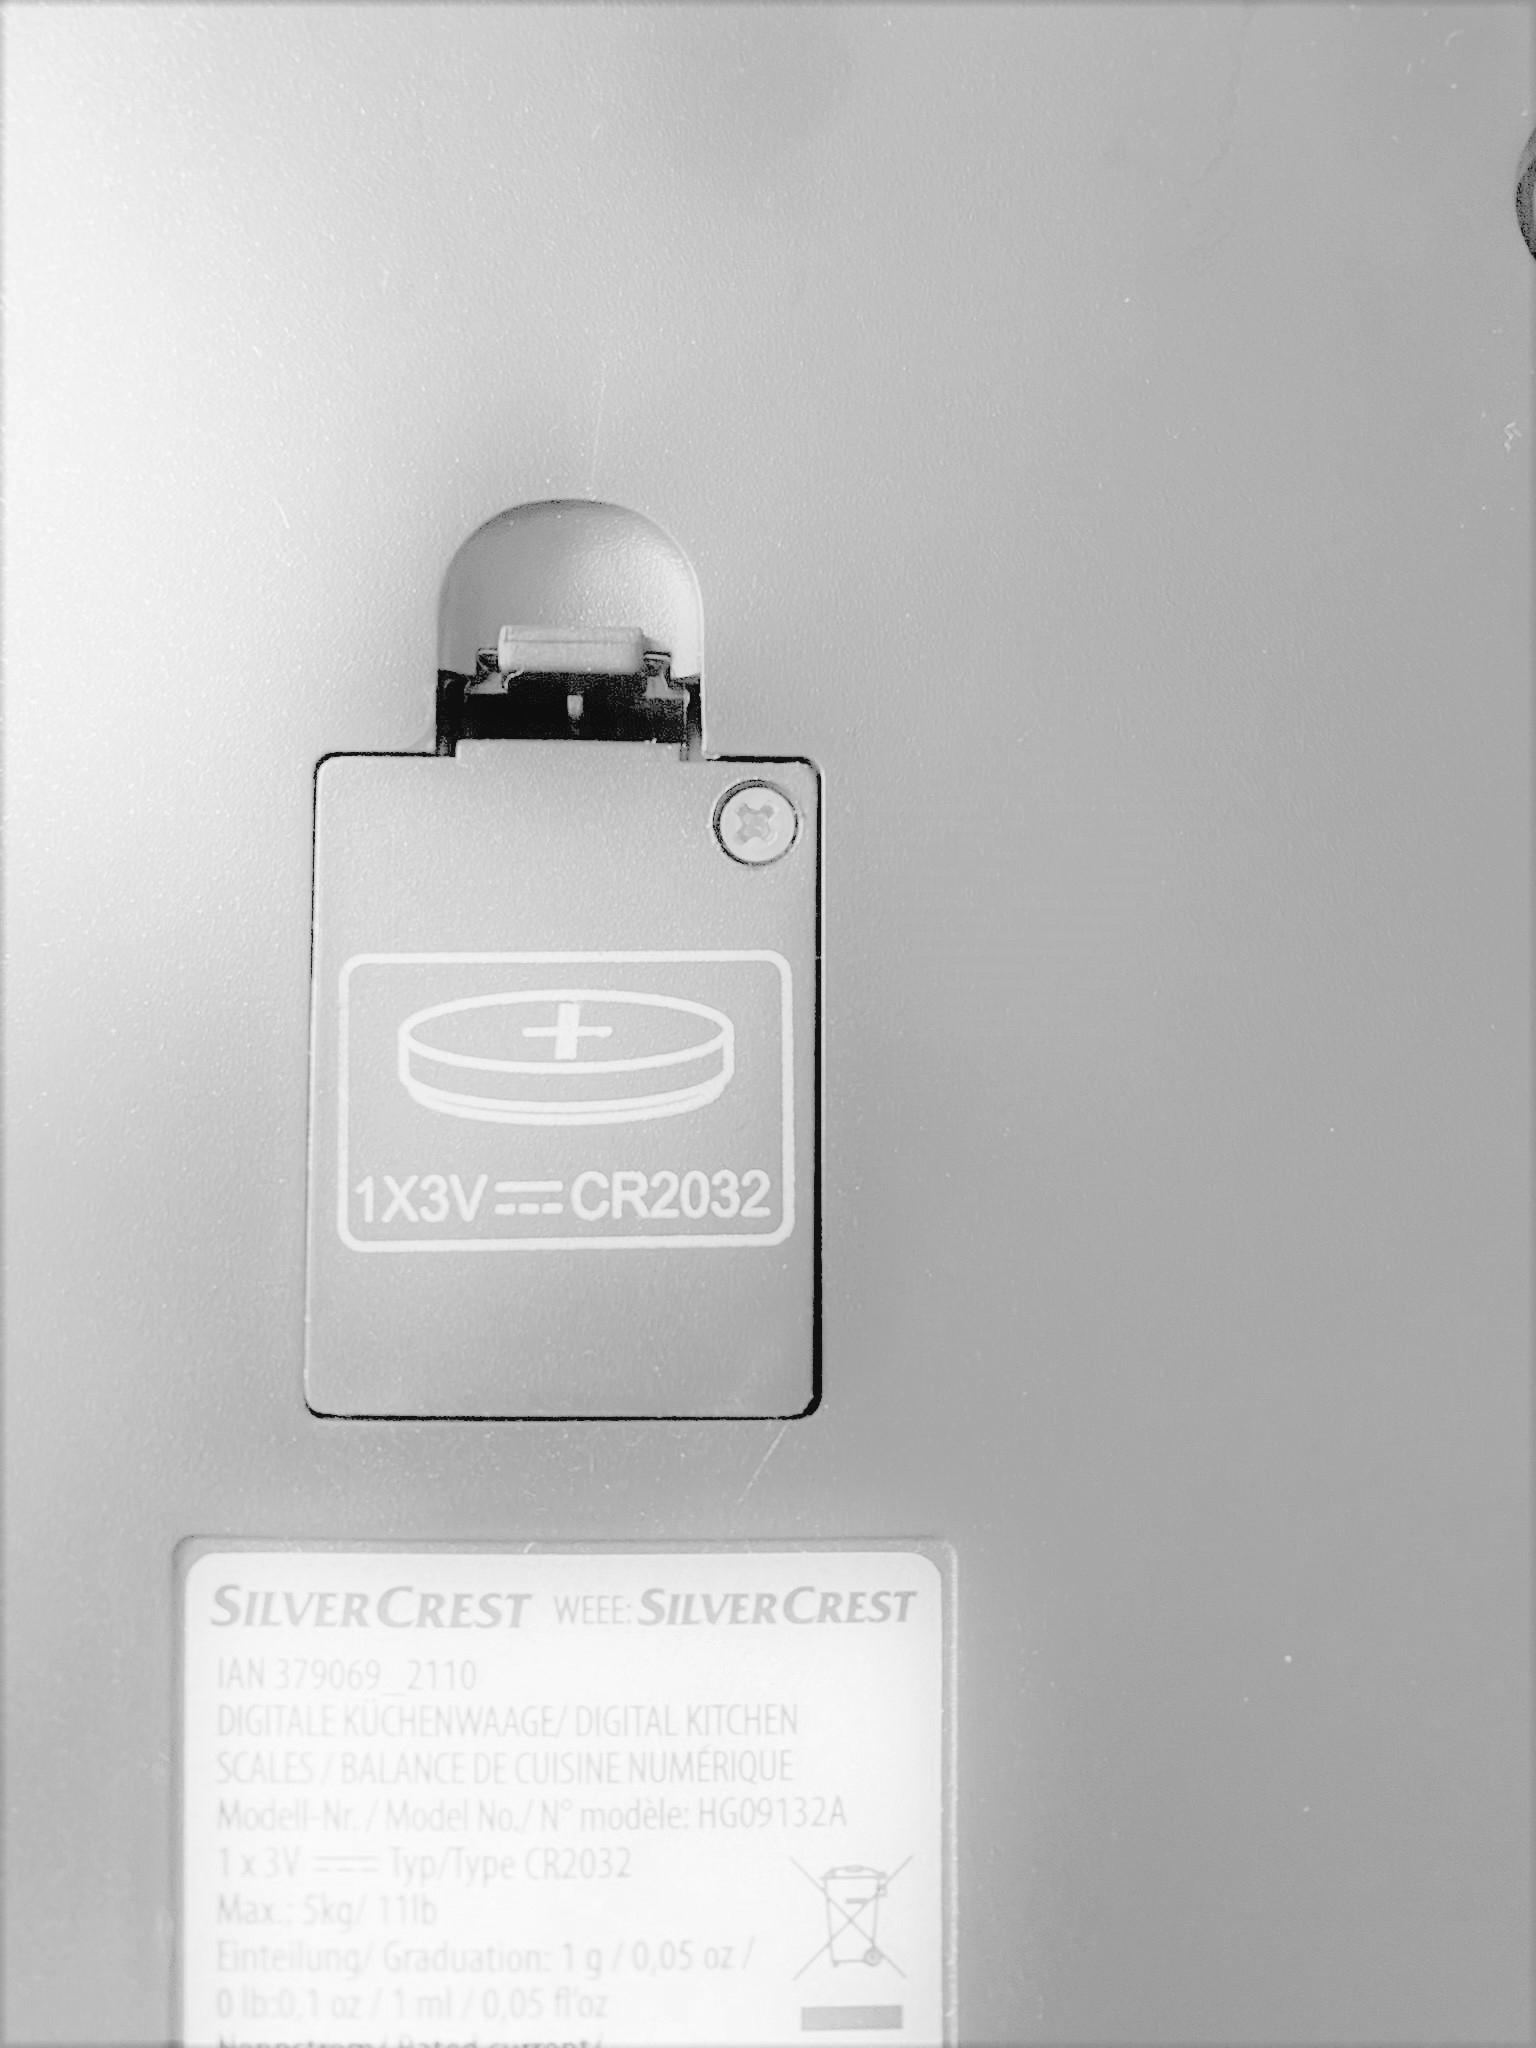screw: (710, 780, 802, 866)
